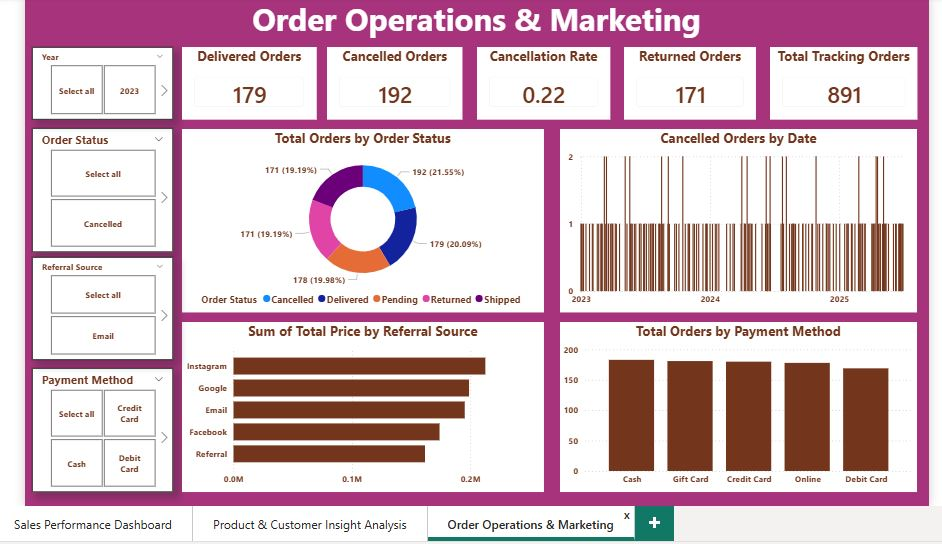

This screenshot's page, from the dashboard's own definition file:
{"tool":"powerbi","page":{"name":"Order Operations & Marketing","canvas":[1280,720],"ordinal":2},"visuals":[{"type":"slicer","fields":{"Values":["DecodeLab Project 4.OrderStatus"]},"box":[9.9,184.3,199.8,175.7],"z":0},{"type":"slicer","fields":{"Values":["DateTable.Year"]},"box":[9.9,69.4,199.8,103.5],"z":1000},{"type":"slicer","fields":{"Values":["DecodeLab Project 4.PaymentMethod"]},"box":[9.9,524.4,199.8,175.7],"z":3000},{"type":"cardVisual","title":"Delivered Orders","fields":{"Data":["DecodeLab Project 4.Delivered Orders"]},"box":[222.6,69.1,190.6,102.9],"z":4000},{"type":"cardVisual","title":"Returned Orders","fields":{"Data":["DecodeLab Project 4.Returned Orders"]},"box":[848.3,69.1,187.2,102.9],"z":5000},{"type":"cardVisual","title":"Cancellation Rate","fields":{"Data":["DecodeLab Project 4.Cancellation Rate"]},"box":[640.8,69.1,188.9,102.9],"z":6000},{"type":"cardVisual","title":"Cancelled Orders","fields":{"Data":["DecodeLab Project 4.Cancelled Orders"]},"box":[428.4,69.1,192.3,102.9],"z":7000},{"type":"cardVisual","title":"Total Tracking Orders","fields":{"Data":["DecodeLab Project 4.Total Tracking Number"]},"box":[1055.7,69.1,209.1,102.9],"z":8000},{"type":"donutChart","title":"Total Orders by Order Status","fields":{"Category":["DecodeLab Project 4.OrderStatus"],"Y":["DecodeLab Project 4.Total Orders"]},"box":[222.6,185.5,512.7,259.7],"z":9000},{"type":"columnChart","fields":{"Category":["DateTable.Date"],"Y":["DecodeLab Project 4.Cancelled Orders"]},"box":[758.9,185.5,505.9,259.7],"z":10000},{"type":"barChart","title":"Sum of Total Price by Referral Source","fields":{"Category":["DecodeLab Project 4.ReferralSource"],"Y":["Sum(DecodeLab Project 4.TotalPrice)"]},"box":[222.6,458.7,512.7,241.2],"z":10001},{"type":"columnChart","title":"Total Orders by Payment Method","fields":{"Category":["DecodeLab Project 4.PaymentMethod"],"Y":["DecodeLab Project 4.Total Orders"]},"box":[758.9,458.7,505.9,241.2],"z":10002},{"type":"slicer","fields":{"Values":["DecodeLab Project 4.ReferralSource"]},"box":[9.9,367.1,199.8,146],"z":10003},{"type":"actionButton","title":"Order Operations & Marketing","box":[0,0,1279.8,59.5],"z":10004}]}

Visuals, with their boxes on the page's 1280x720 design canvas (x1, y1, x2, y2). These are canvas units, not pixel positions in the 942x544 screenshot, which may show the page scaled, cropped or inside an application window:
slicer - DecodeLab Project 4.OrderStatus: [x1=10, y1=184, x2=210, y2=360]
slicer - DateTable.Year: [x1=10, y1=69, x2=210, y2=173]
slicer - DecodeLab Project 4.PaymentMethod: [x1=10, y1=524, x2=210, y2=700]
"Delivered Orders" cardVisual: [x1=223, y1=69, x2=413, y2=172]
"Returned Orders" cardVisual: [x1=848, y1=69, x2=1036, y2=172]
"Cancellation Rate" cardVisual: [x1=641, y1=69, x2=830, y2=172]
"Cancelled Orders" cardVisual: [x1=428, y1=69, x2=621, y2=172]
"Total Tracking Orders" cardVisual: [x1=1056, y1=69, x2=1265, y2=172]
"Total Orders by Order Status" donutChart: [x1=223, y1=186, x2=735, y2=445]
columnChart - DateTable.Date x DecodeLab Project 4.Cancelled Orders: [x1=759, y1=186, x2=1265, y2=445]
"Sum of Total Price by Referral Source" barChart: [x1=223, y1=459, x2=735, y2=700]
"Total Orders by Payment Method" columnChart: [x1=759, y1=459, x2=1265, y2=700]
slicer - DecodeLab Project 4.ReferralSource: [x1=10, y1=367, x2=210, y2=513]
"Order Operations & Marketing" actionButton: [x1=0, y1=0, x2=1280, y2=60]
